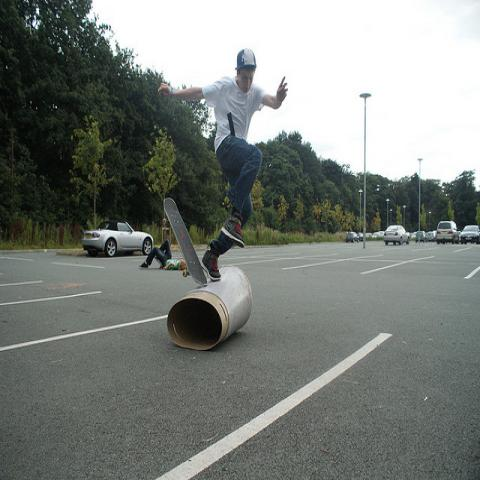car: (82, 220, 154, 258), (436, 220, 459, 244), (383, 225, 410, 245), (460, 225, 480, 245), (346, 232, 360, 243), (416, 231, 428, 243), (372, 231, 383, 240), (427, 232, 437, 241), (357, 232, 363, 242), (379, 231, 385, 237), (411, 232, 417, 238), (365, 233, 372, 238)
